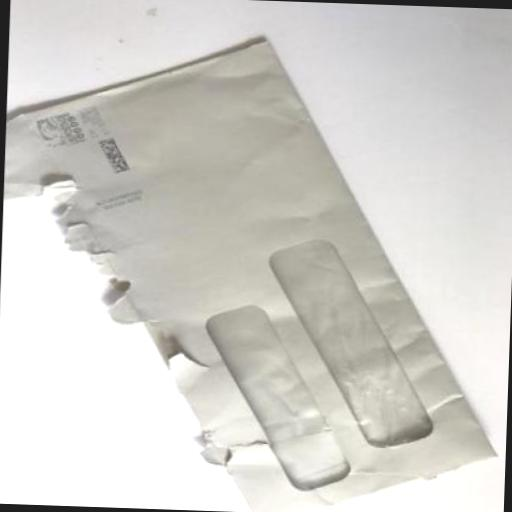paper: (0, 33, 506, 512)
